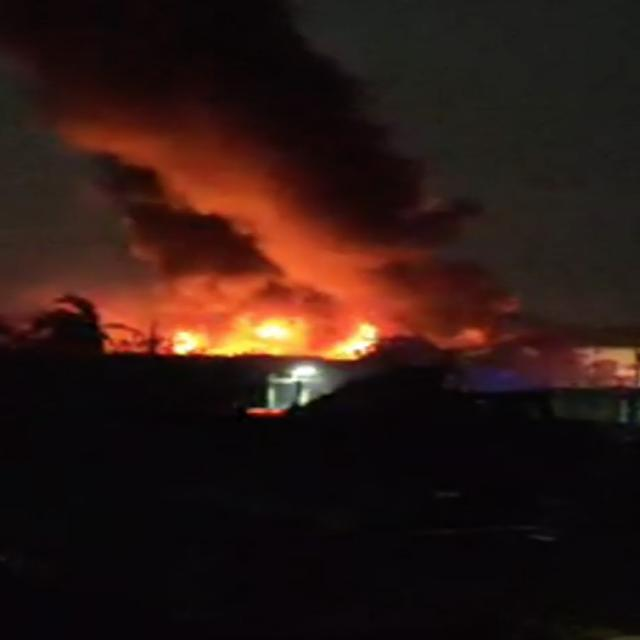Fire: (107, 298, 438, 360)
Smoke: (27, 0, 611, 333)
